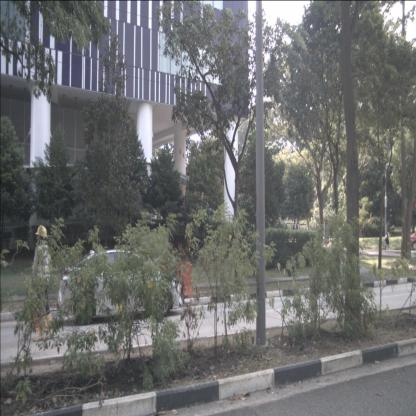movable_object-barrier: (158, 262, 192, 300)
vehicle-car: (56, 249, 183, 325), (408, 232, 416, 251)
